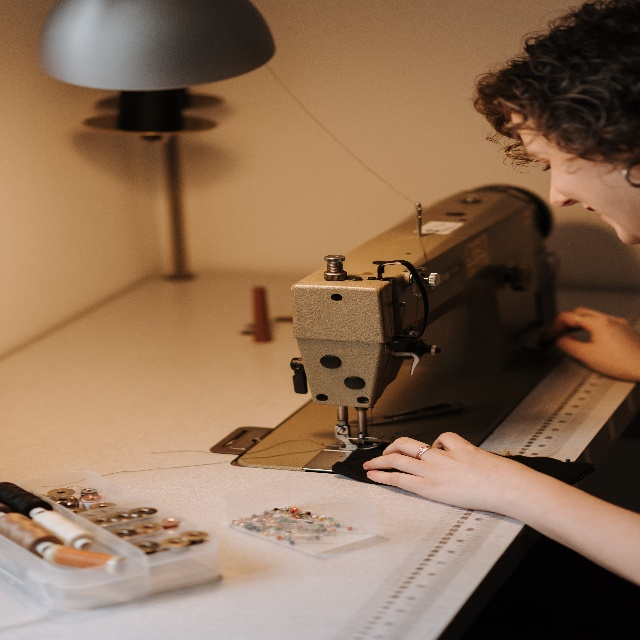Sin_guantes: (362, 431, 521, 515), (551, 305, 640, 383)
